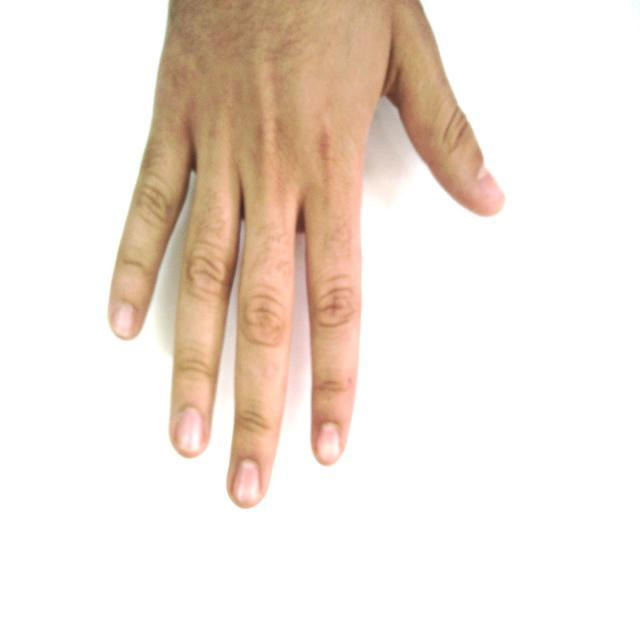Fingernail: (176, 409, 203, 452), (235, 460, 260, 505), (318, 424, 340, 464), (114, 305, 134, 336), (478, 169, 500, 196)
